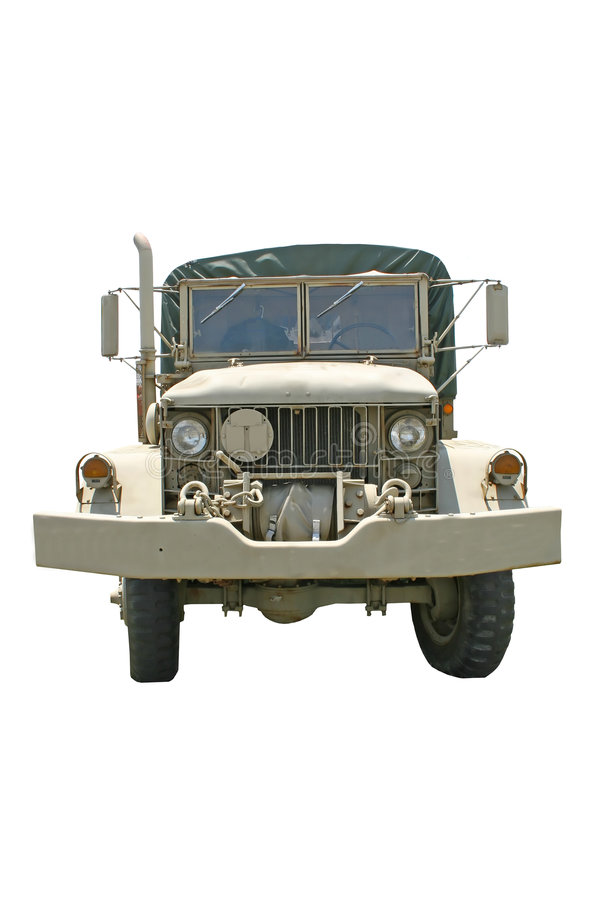camion: (36, 242, 567, 691)
